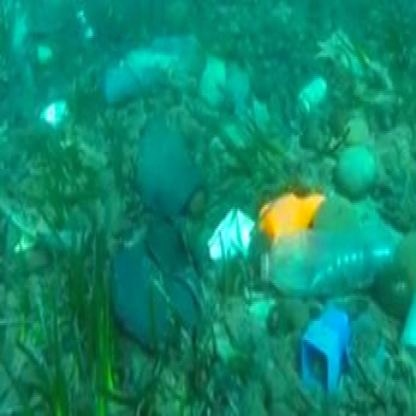misc: (106, 222, 234, 363)
pbottle: (261, 226, 389, 304)
